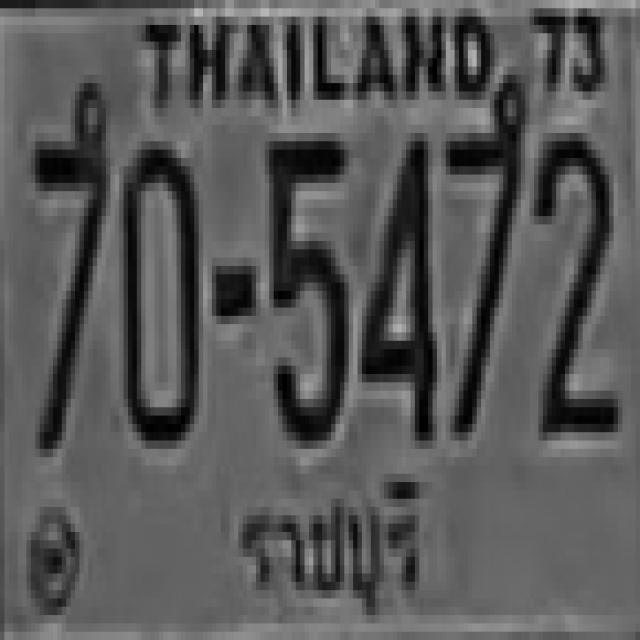0: (119, 133, 194, 441)
2: (534, 121, 614, 428)
4: (358, 125, 432, 432)
5: (265, 129, 344, 436)
7: (444, 120, 523, 444), (31, 140, 115, 444)
Ratchaburi: (222, 464, 428, 612)
